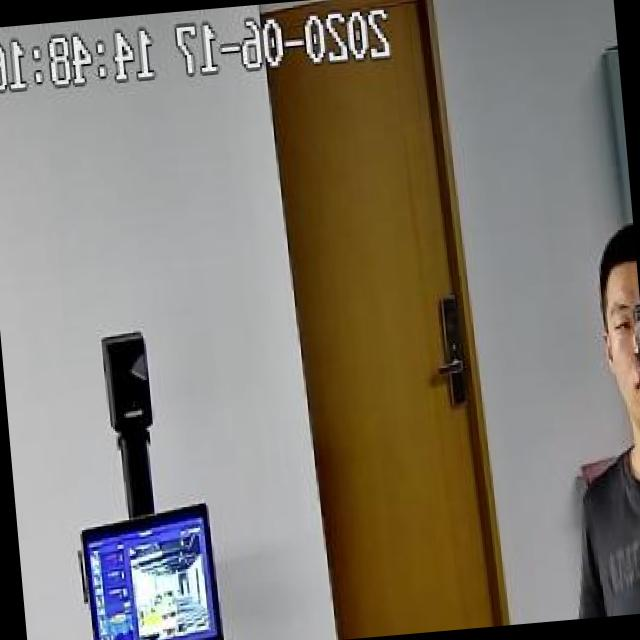Guns: (611, 276, 640, 426)
